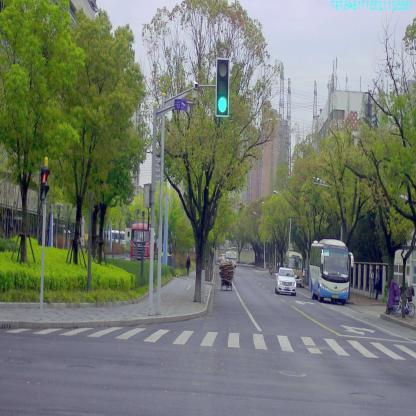traffic-light: (216, 59, 229, 116)
